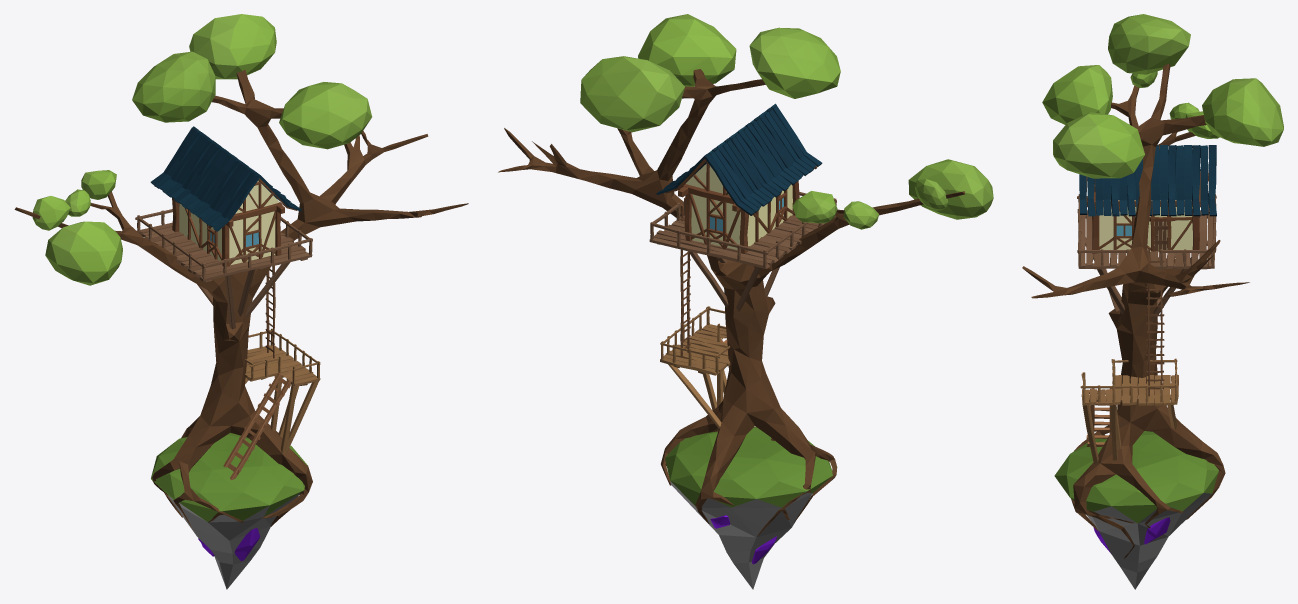
Rendered from treehouse.glb.
3 views of the same model, side by side, from view 1: azimuth 30°, elevation 25°; view 2: azimuth 150°, elevation 25°; view 3: azimuth 270°, elevation 25° (orthographic). The views are drawn at different scales.
Visible parts, largest first — view 1: Leaves.251; view 2: Leaves.251; view 3: Leaves.251.
Boxes of the visible parts, <box> form: Leaves.251: <box>14,14,468,589</box>; Leaves.251: <box>498,14,993,589</box>; Leaves.251: <box>1022,14,1283,589</box>.
Size of the model in its own units: 77.98 by 94.23 by 40.48.
1 material, 1 textured.
